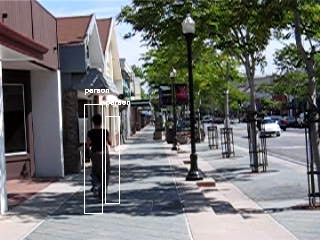person: (86, 111, 113, 197), (85, 111, 112, 197), (87, 111, 114, 197), (86, 110, 113, 196), (86, 112, 113, 198)
target_negative: (217, 27, 275, 221), (252, 50, 314, 215), (276, 5, 313, 109), (113, 105, 223, 130), (251, 27, 318, 64), (309, 26, 319, 117)
